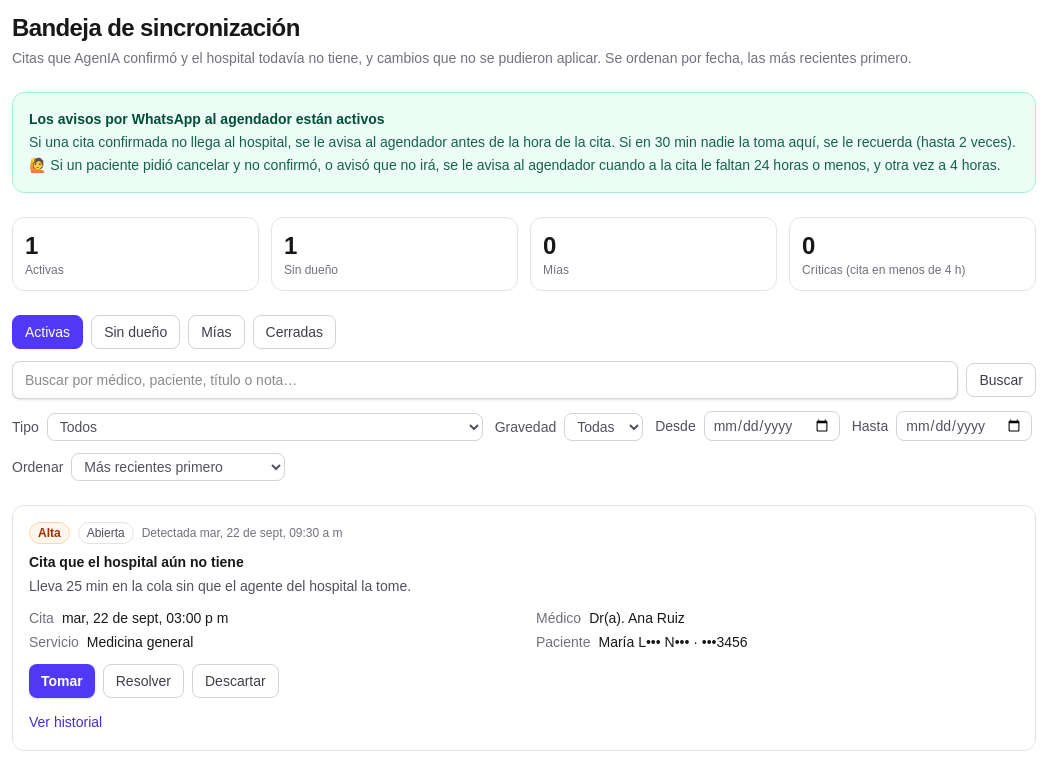
Test: BandejaClient — trabajar una excepción › 🚫 si el servidor rechaza la acción, se muestra el motivo y NO se refresca
The image size is (1048, 780).
Click the button "Tomar".
click(62, 680)  # box top-left (29, 664), bottom-right (95, 698)
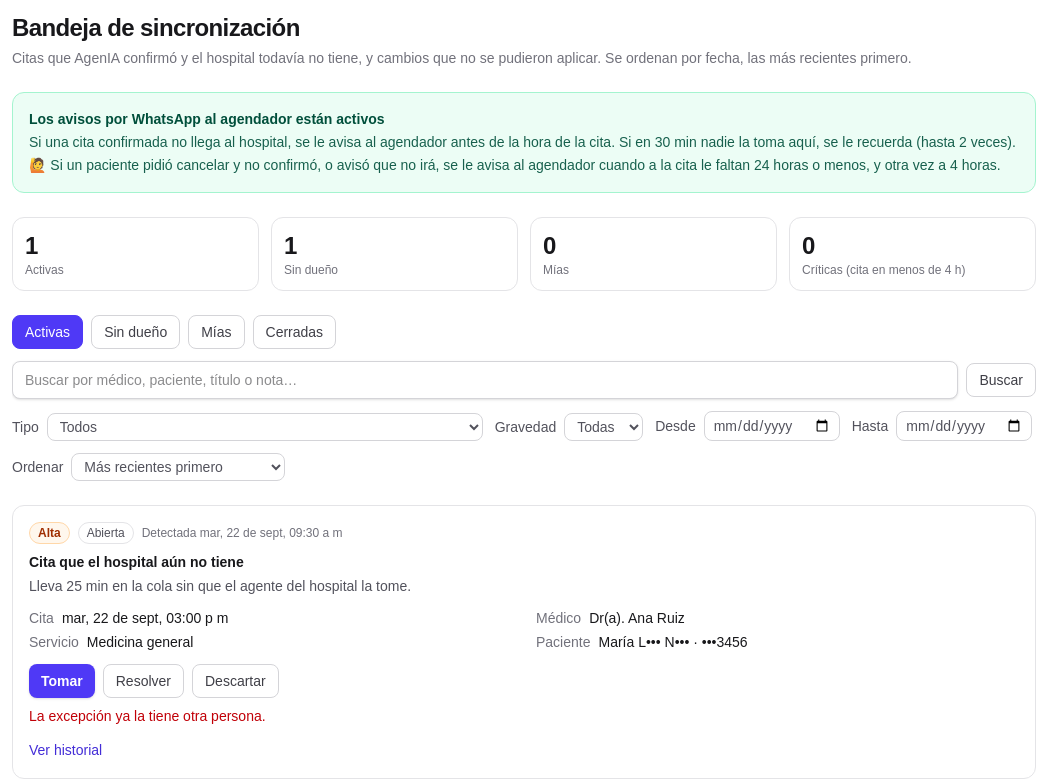
Now the message reads "La excepción ya la tiene otra persona.", box top-left (29, 708), bottom-right (266, 724)
